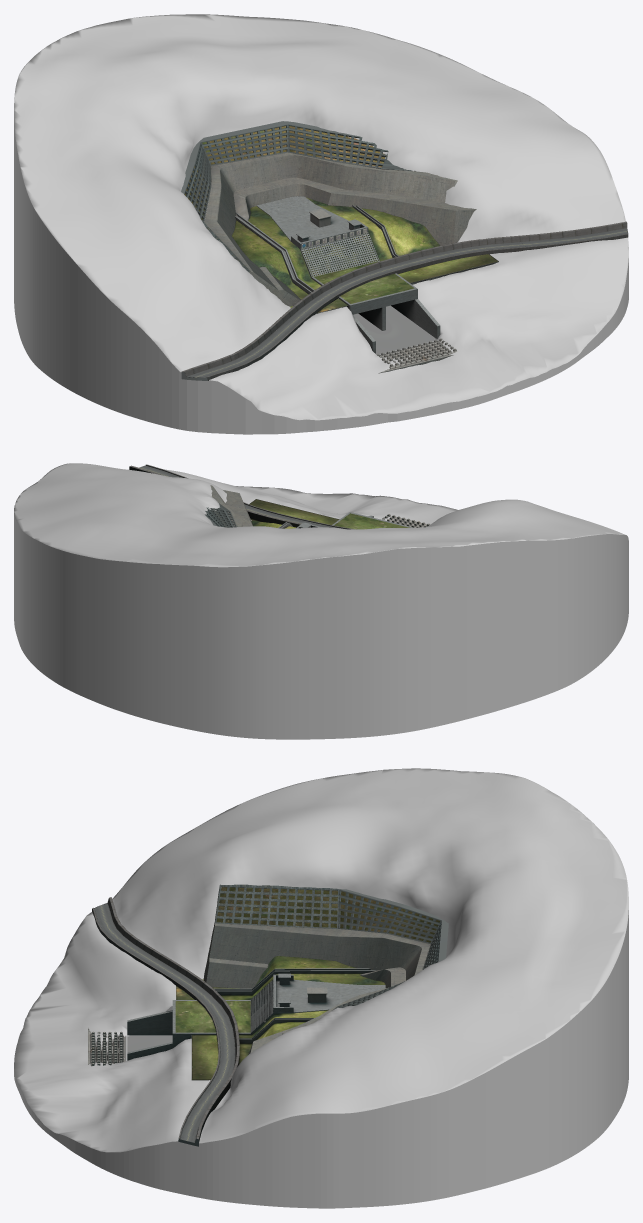
The model's file is Flood Diversion_Exit_0627bake.gltf.
The picture shows the model from 3 angles, top to bottom: view 1: azimuth 30°, elevation 25°; view 2: azimuth 150°, elevation 25°; view 3: azimuth 270°, elevation 25°; orthographic projection. The views are drawn at different scales.
Parts seen in each view (by area): view 1: exit_terrain, rear_wall.001, grass, road, wall.001, rear_tunnel, wall, grass.001, water, water_inside, tri cube, rear_wall; view 2: exit_terrain, grass, road, rear_wall.001, wall.001; view 3: exit_terrain, rear_wall.001, wall.001, road, grass, rear_tunnel, grass.001, rear_wall, tri cube, wall, water.
Boxes of the visible parts, left/top/right/bottom form: exit_terrain: left=14, top=14, right=628, bottom=434; rear_wall.001: left=204, top=152, right=476, bottom=306; grass: left=232, top=197, right=498, bottom=313; road: left=181, top=221, right=628, bottom=380; wall.001: left=181, top=121, right=415, bottom=272; rear_tunnel: left=256, top=196, right=496, bottom=354; wall: left=301, top=232, right=379, bottom=277; grass.001: left=184, top=126, right=384, bottom=219; water: left=354, top=305, right=437, bottom=354; water_inside: left=354, top=306, right=434, bottom=353; tri cube: left=376, top=338, right=456, bottom=373; rear_wall: left=235, top=205, right=398, bottom=294; exit_terrain: left=14, top=463, right=628, bottom=739; grass: left=249, top=499, right=409, bottom=529; road: left=129, top=464, right=354, bottom=529; rear_wall.001: left=210, top=485, right=252, bottom=526; wall.001: left=204, top=503, right=236, bottom=527; exit_terrain: left=14, top=768, right=628, bottom=1208; rear_wall.001: left=203, top=922, right=430, bottom=1054; wall.001: left=215, top=884, right=448, bottom=1010; road: left=92, top=897, right=239, bottom=1146; grass: left=175, top=956, right=385, bottom=1079; rear_tunnel: left=127, top=974, right=385, bottom=1060; grass.001: left=216, top=887, right=440, bottom=942; rear_wall: left=214, top=968, right=376, bottom=1043; tri cube: left=88, top=1028, right=126, bottom=1066; wall: left=250, top=980, right=273, bottom=1032; water: left=125, top=1035, right=172, bottom=1061.
Bounding box in the file's own units: 9.63 × 3.26 × 9.13.
